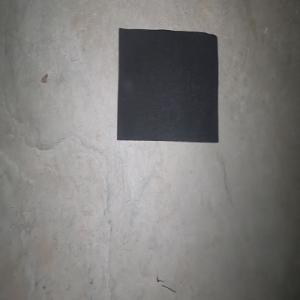PaintChip: (116, 27, 218, 143)
